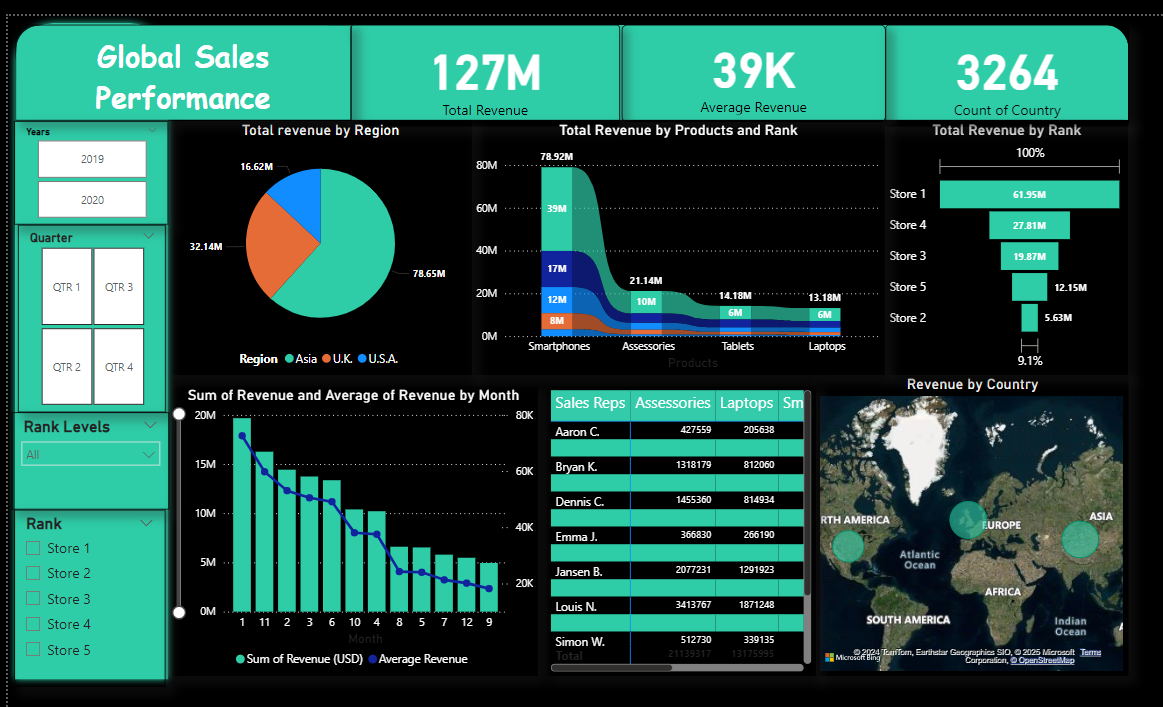

What the dashboard file says about the page in this screenshot:
{"tool":"powerbi","page":{"name":"Page 1","canvas":[1400,800],"ordinal":0},"visuals":[{"type":"shape","box":[0,0,191.2,766.2],"z":0},{"type":"shape","box":[123.8,10,1156.2,108.8],"z":1000},{"type":"card","fields":{"Values":["Sales_performance.Total Revenue"]},"box":[391.9,9.5,308.1,116.2],"z":2000},{"type":"card","fields":{"Values":["Sales_performance.Average Revenue"]},"box":[701.4,9.5,301.4,110.8],"z":3000},{"type":"pieChart","title":"Total revenue by Region","fields":{"Y":["Sheet1.Revenue (USD)"],"Category":["Sheet1.Region"]},"box":[183.8,120,346.2,290],"z":4000},{"type":"map","title":"Revenue by Country","fields":{"Category":["Sheet1.Region","Sheet1.Country"],"Size":["Sheet1.Revenue (USD)"]},"box":[922.5,410,357.5,343.8],"z":5000},{"type":"funnel","title":"Total Revenue by Rank","fields":{"Y":["Sheet1.Revenue (USD)"],"Category":["Sheet1.Rank"]},"box":[1002.5,120,277.5,290],"z":6000},{"type":"ribbonChart","title":"Total Revenue by Products and Rank","fields":{"Category":["Sheet1.Products"],"Y":["Sheet1.Revenue (USD)"],"Series":["Sheet1.Rank"]},"box":[530,120,472.5,290],"z":7000},{"type":"card","fields":{"Values":["Sheet1.Country"]},"box":[1002.7,9.5,278.4,116.2],"z":8000},{"type":"shape","title":"Sales Spectrum: Global Performance Analysis","box":[8.1,9.5,383.8,109.5],"z":9000},{"type":"slicer","fields":{"Values":["Sheet1.Years"]},"box":[7.5,120,176.2,118.8],"z":10000},{"type":"slicer","fields":{"Values":["Sheet1.Quarter"]},"box":[11,239,169,214],"z":11000},{"type":"slicer","fields":{"Values":["Sheet1.Rank"]},"box":[7.5,563.8,172.5,202.5],"z":12000},{"type":"slicer","fields":{"Values":["Sheet1.Rank Levels"]},"box":[4,452.5,180,111.2],"z":13000},{"type":"lineStackedColumnComboChart","title":"Sum of Revenue and Average of Revenue by Month","fields":{"Category":["Sheet1.Month"],"Y":["Sheet1.Revenue (USD)"],"Y2":["Sales_performance.Average Revenue"]},"box":[183.8,422.5,421.2,331.2],"z":14000},{"type":"pivotTable","fields":{"Rows":["Sheet1.Sales Reps"],"Values":["Sheet1.Revenue (USD)"],"Columns":["Sheet1.Products"]},"box":[615,422.5,307.5,331.2],"z":15000}]}

Visuals, with their boxes on the page's 1400x800 design canvas (x1, y1, x2, y2). These are canvas units, not pixel positions in the 1163x707 screenshot, which may show the page scaled, cropped or inside an application window:
shape: crop(0, 0, 191, 766)
shape: crop(124, 10, 1280, 119)
card - Sales_performance.Total Revenue: crop(392, 10, 700, 126)
card - Sales_performance.Average Revenue: crop(701, 10, 1003, 120)
"Total revenue by Region" pieChart: crop(184, 120, 530, 410)
"Revenue by Country" map: crop(922, 410, 1280, 754)
"Total Revenue by Rank" funnel: crop(1002, 120, 1280, 410)
"Total Revenue by Products and Rank" ribbonChart: crop(530, 120, 1002, 410)
card - Sheet1.Country: crop(1003, 10, 1281, 126)
"Sales Spectrum: Global Performance Analysis" shape: crop(8, 10, 392, 119)
slicer - Sheet1.Years: crop(8, 120, 184, 239)
slicer - Sheet1.Quarter: crop(11, 239, 180, 453)
slicer - Sheet1.Rank: crop(8, 564, 180, 766)
slicer - Sheet1.Rank Levels: crop(4, 452, 184, 564)
"Sum of Revenue and Average of Revenue by Month" lineStackedColumnComboChart: crop(184, 422, 605, 754)
pivotTable - Sheet1.Sales Reps x Sheet1.Revenue (USD): crop(615, 422, 922, 754)
